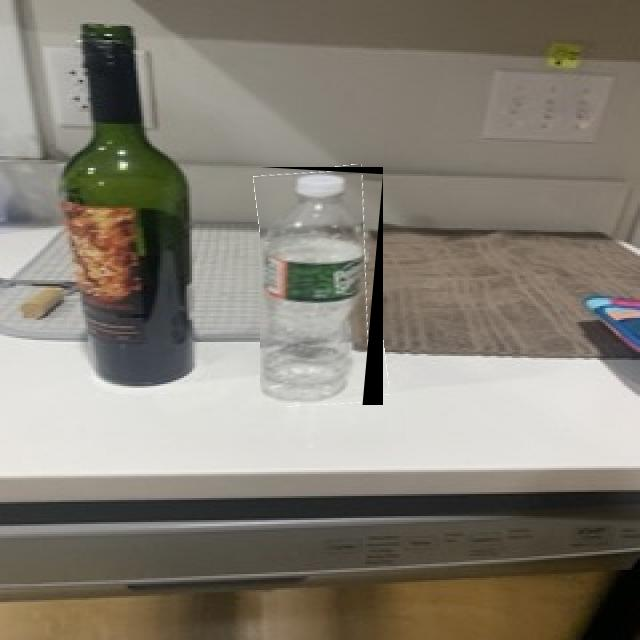water_bottle: (260, 167, 383, 405)
